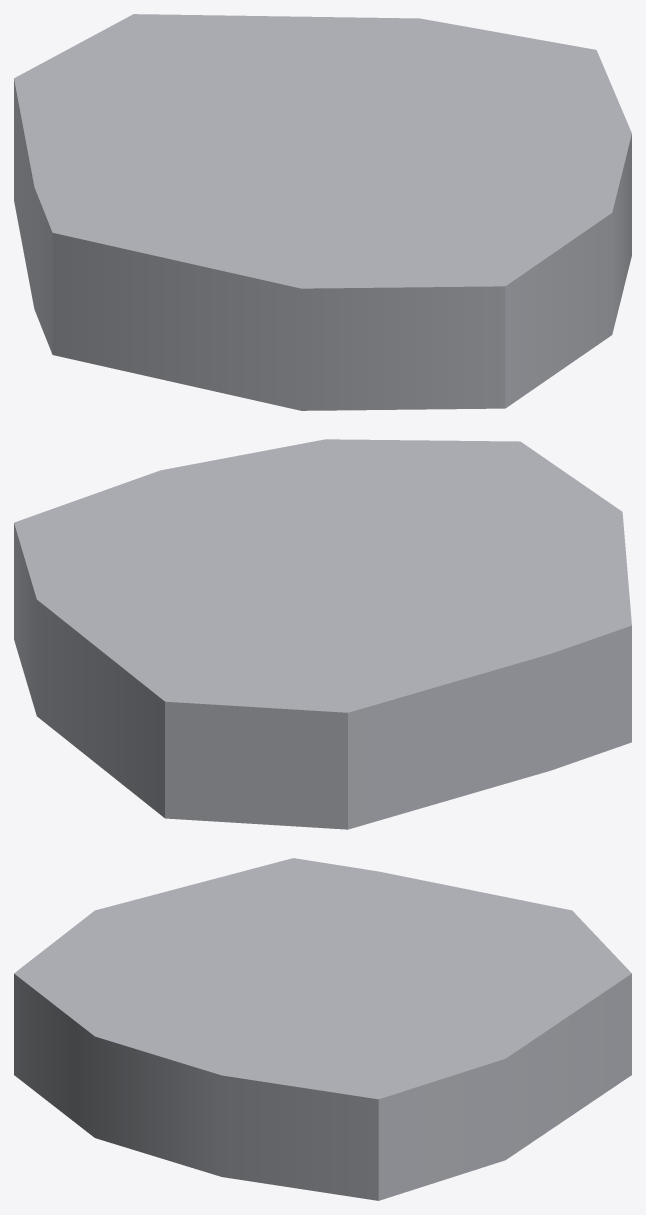
File: Rock_H.fbx
3 renders of one model, top to bottom at view 1: azimuth 30°, elevation 25°; view 2: azimuth 150°, elevation 25°; view 3: azimuth 270°, elevation 25°, orthographic. The views are drawn at different scales.
Parts seen in each view (by area): view 1: Rock_H; view 2: Rock_H; view 3: Rock_H.
Boxes of the visible parts, left/top/right/bottom form: Rock_H: left=14, top=14, right=631, bottom=410; Rock_H: left=14, top=439, right=631, bottom=829; Rock_H: left=14, top=858, right=631, bottom=1200.
Size of the model in its own units: 112 by 22.04 by 122.
